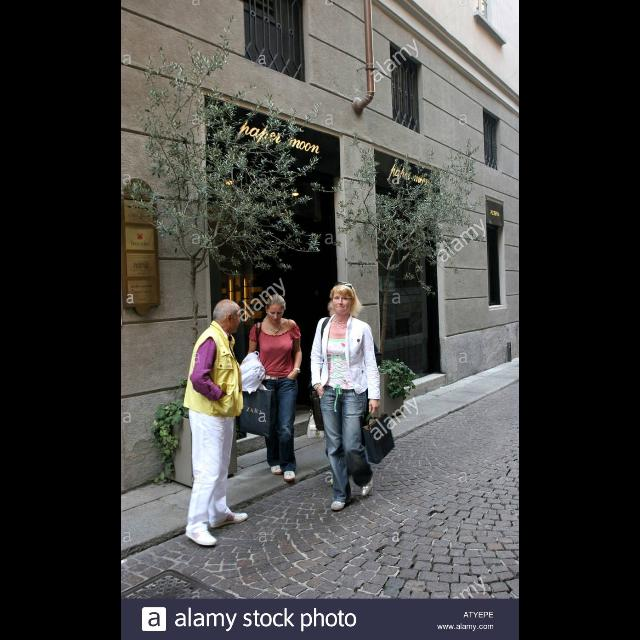head: (214, 299, 242, 335), (332, 284, 358, 316), (328, 300, 354, 322), (266, 296, 286, 324)
person: (308, 281, 382, 514), (182, 298, 250, 546), (305, 296, 385, 488), (247, 292, 305, 483)
